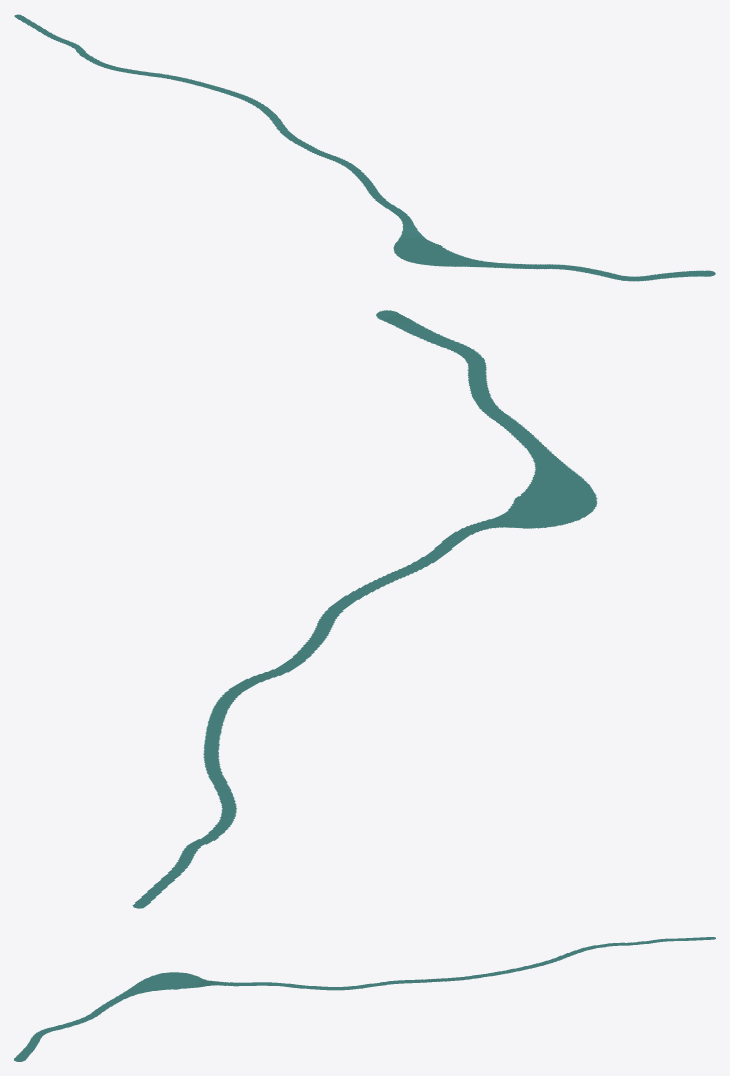
Rendered from SM_River_AcademyRiver.fbx.
3 views of the same model, one above another, from view 1: azimuth 30°, elevation 25°; view 2: azimuth 150°, elevation 25°; view 3: azimuth 270°, elevation 25° (orthographic). The views are drawn at different scales.
Visible parts, largest first — view 1: SM_River_AcademyRiver; view 2: SM_River_AcademyRiver; view 3: SM_River_AcademyRiver.
Part boxes in pixels (<box>): SM_River_AcademyRiver: <box>14,14,715,281</box>; SM_River_AcademyRiver: <box>132,310,597,908</box>; SM_River_AcademyRiver: <box>14,937,715,1061</box>.
Bounding box in the file's own units: 570 × 30.08 × 1506.
